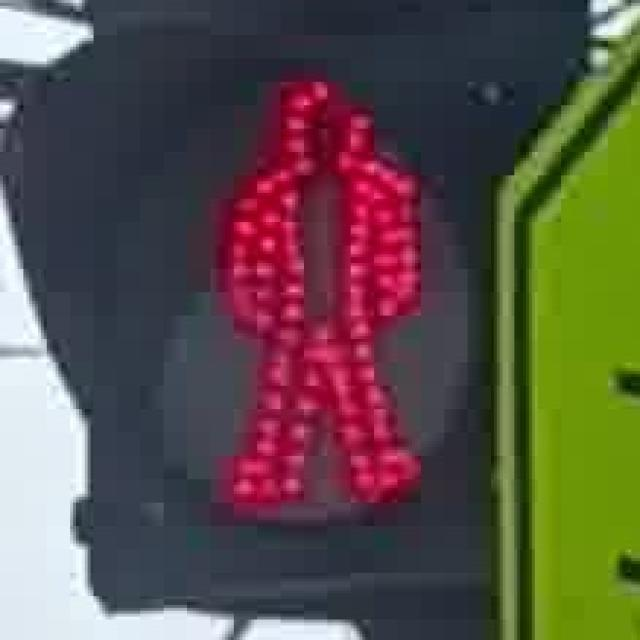red_light: (187, 50, 444, 532)
